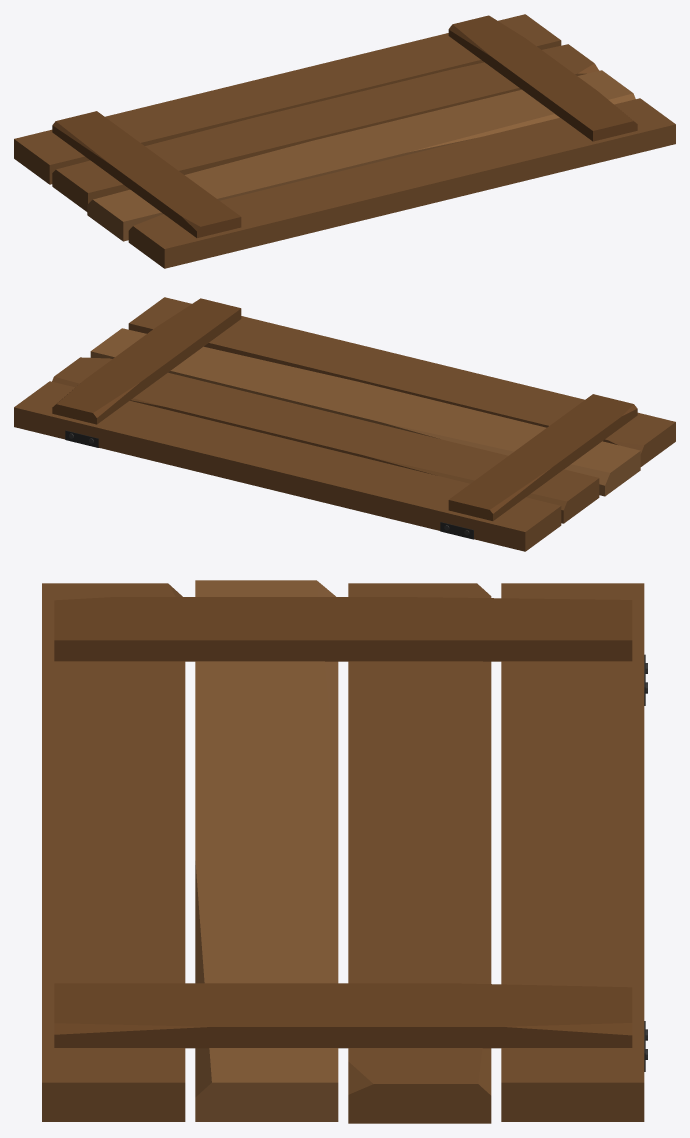
Rendered from AmoBox_01_2.fbx.
3 renders of one model, top to bottom at view 1: azimuth 30°, elevation 25°; view 2: azimuth 150°, elevation 25°; view 3: azimuth 270°, elevation 25°, orthographic. The views are drawn at different scales.
Parts seen in each view (by area): view 1: AmoBox_01_2; view 2: AmoBox_01_2; view 3: AmoBox_01_2.
Boxes of the visible parts, left/top/right/bottom form: AmoBox_01_2: left=14, top=14, right=675, bottom=268; AmoBox_01_2: left=14, top=297, right=675, bottom=551; AmoBox_01_2: left=42, top=580, right=647, bottom=1123.
Size of the model in its own units: 91.22 by 5.14 by 46.36.
